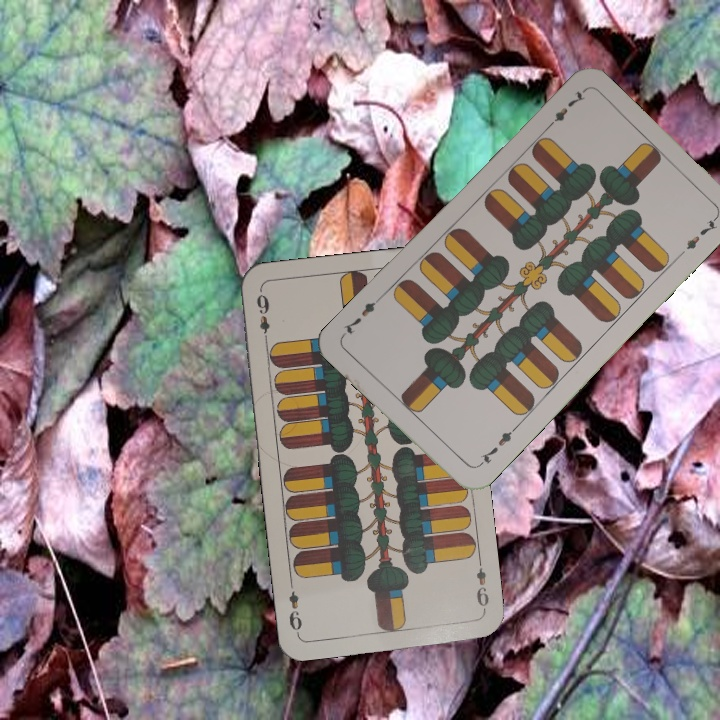E7: (541, 87, 588, 133), (474, 423, 519, 470)
E9: (252, 288, 272, 347), (472, 555, 492, 614)
